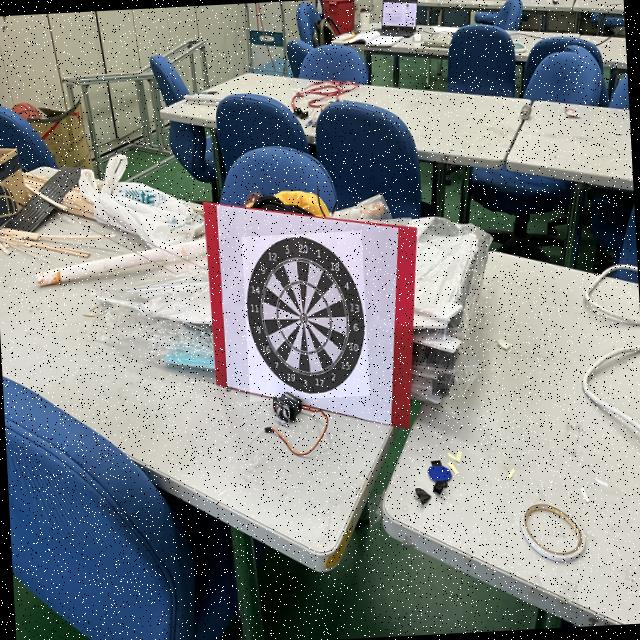archery-targets: (242, 230, 370, 402)
